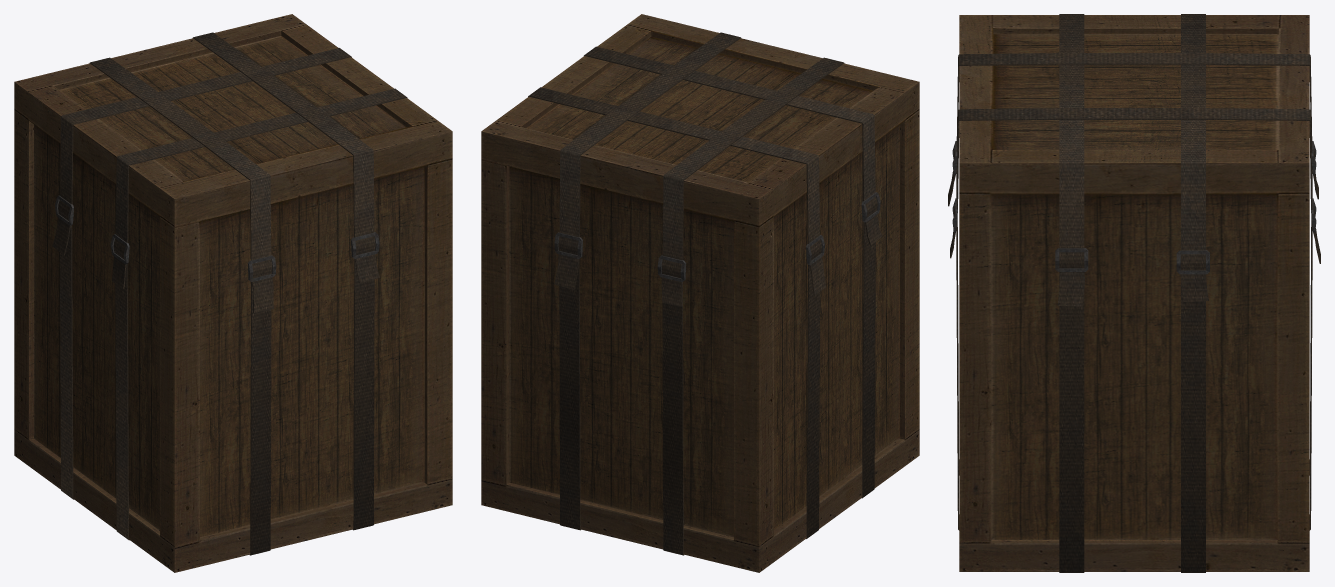
File: wooden_crate_hx_3_2.obj
3 renders of one model, left to right at view 1: azimuth 30°, elevation 25°; view 2: azimuth 150°, elevation 25°; view 3: azimuth 270°, elevation 25°, orthographic. The views are drawn at different scales.
Parts seen in each view (by area): view 1: wooden_crate_hx_3_2; view 2: wooden_crate_hx_3_2; view 3: wooden_crate_hx_3_2.
Part boxes in pixels (left/top/right/bottom): wooden_crate_hx_3_2: left=14, top=14, right=452, bottom=572; wooden_crate_hx_3_2: left=481, top=14, right=919, bottom=572; wooden_crate_hx_3_2: left=948, top=14, right=1320, bottom=572.
Bounding box in the file's own units: 1.49 × 1.82 × 1.49.
